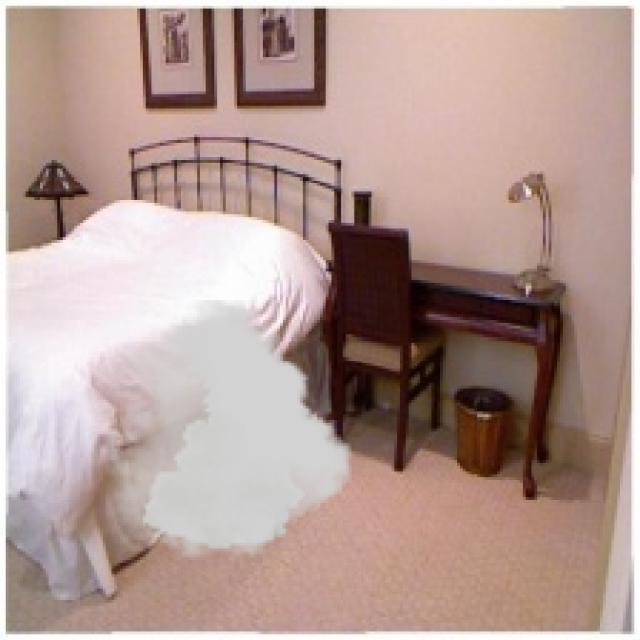Smoke: (106, 300, 352, 560)
